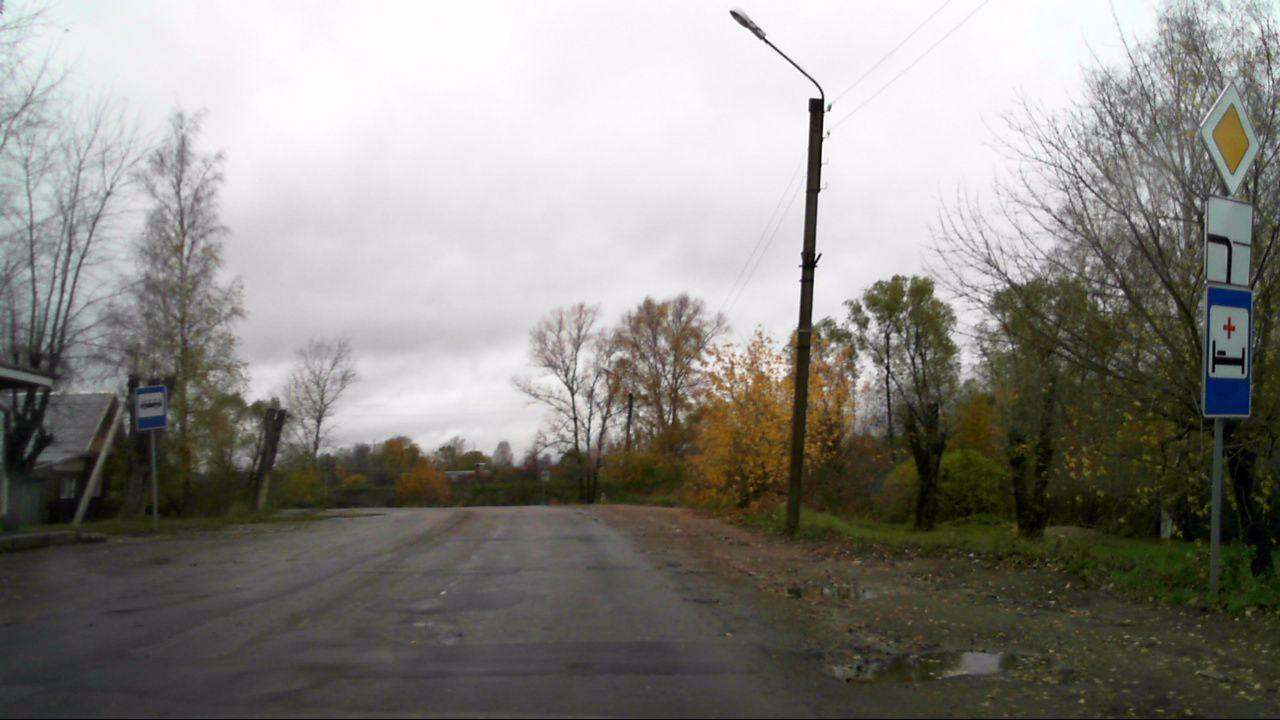2_1: (1196, 80, 1264, 190)
5_16: (133, 383, 170, 429)
7_2: (1199, 289, 1260, 426)
8_13: (1203, 196, 1253, 287)
